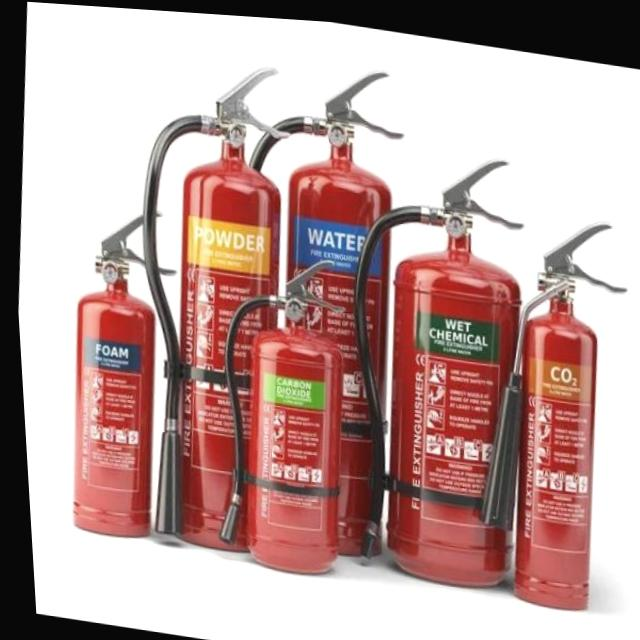FireExtinguisher: (193, 36, 431, 567), (98, 35, 318, 560), (316, 126, 546, 593), (447, 192, 640, 616), (191, 234, 363, 581), (39, 190, 195, 548)
